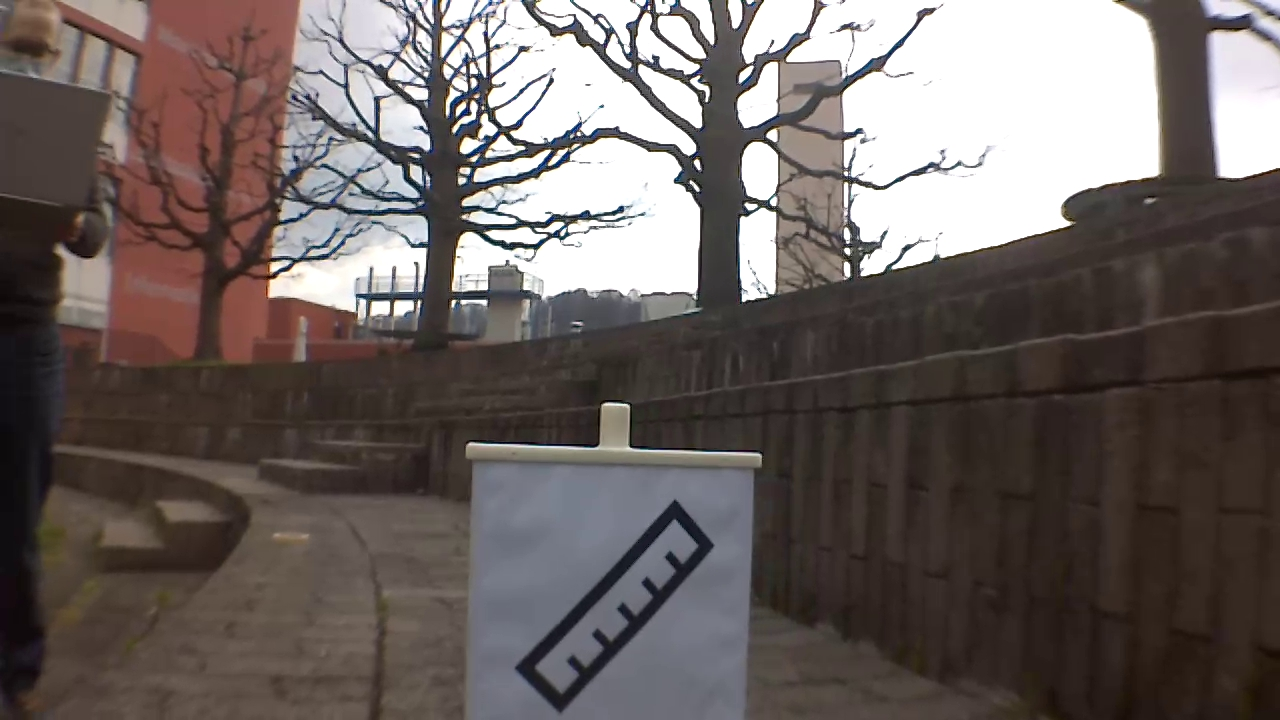ruler: (516, 497, 720, 713)
